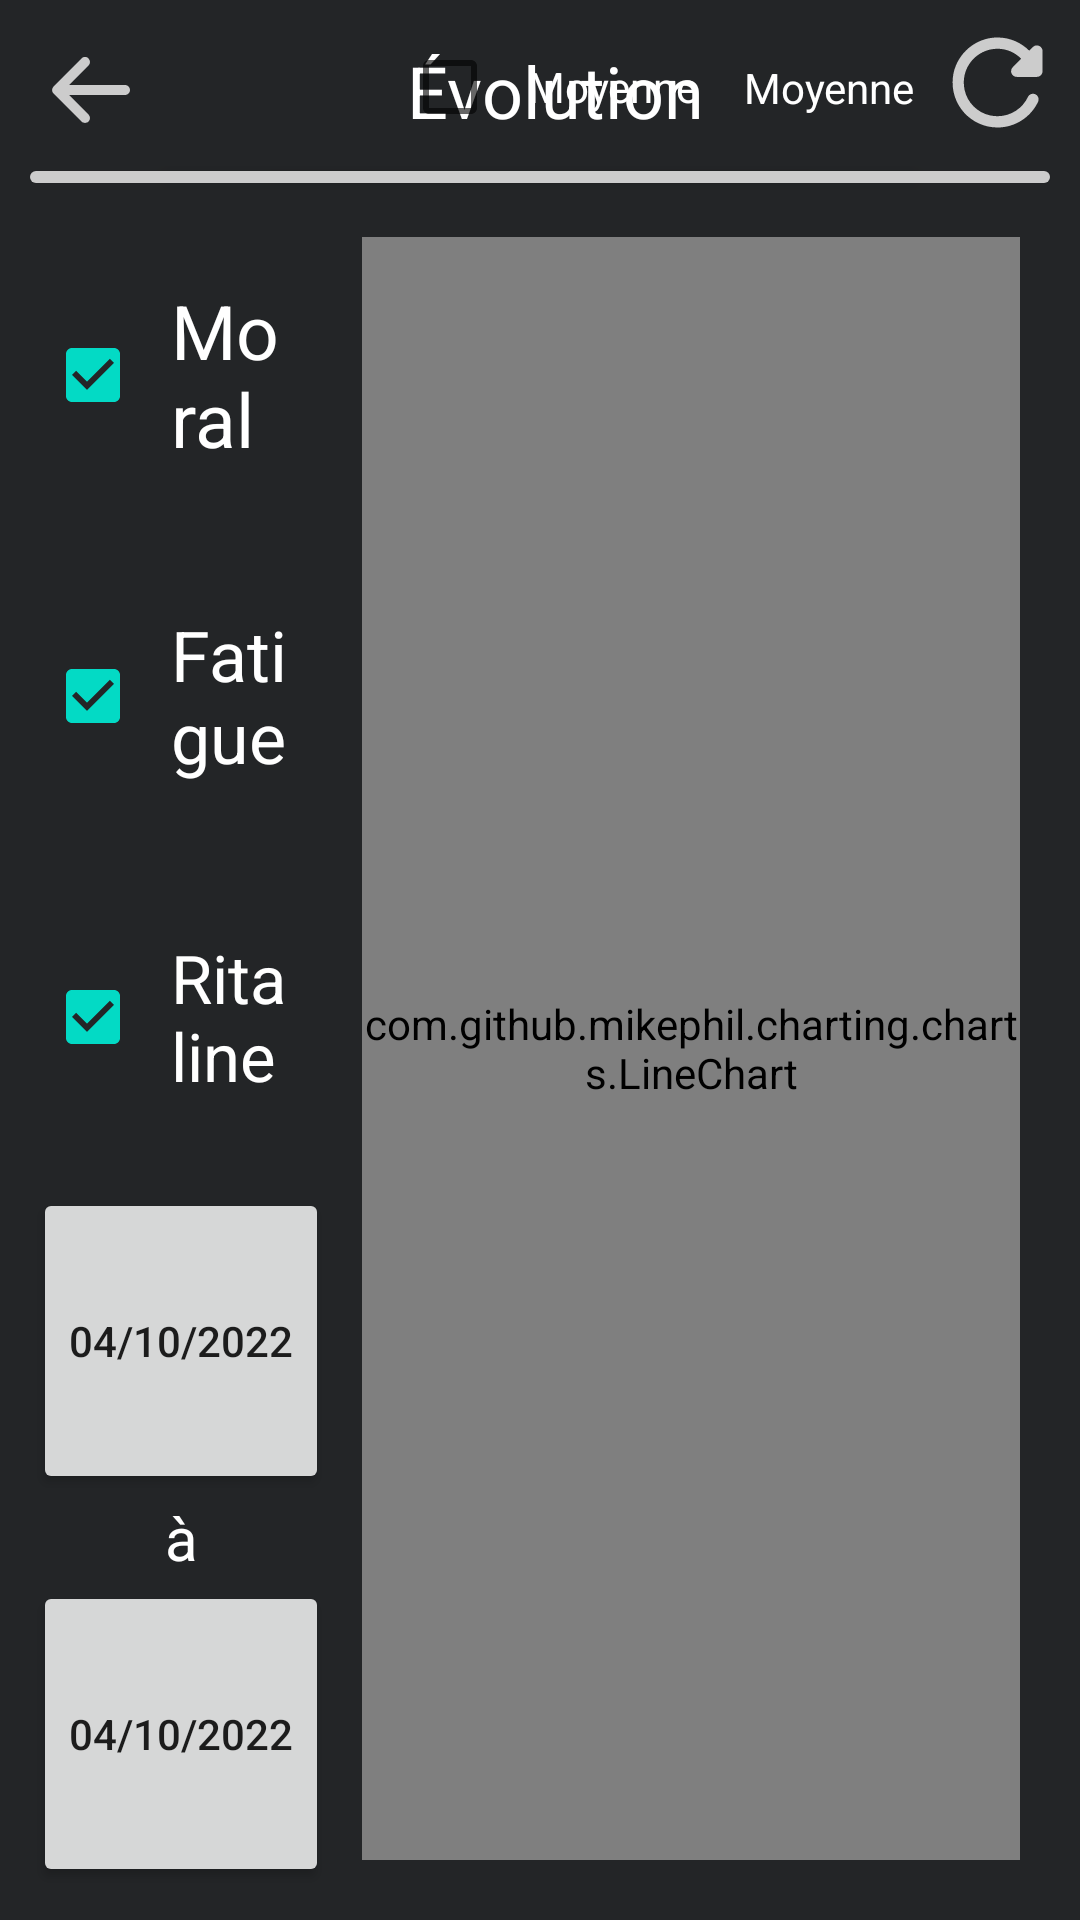

Icons on this 1080×1920 Android screen, each with its box as (x1, y1, x2, y2):
arrow left: (52, 57, 130, 123)
loading: (952, 37, 1043, 128)
